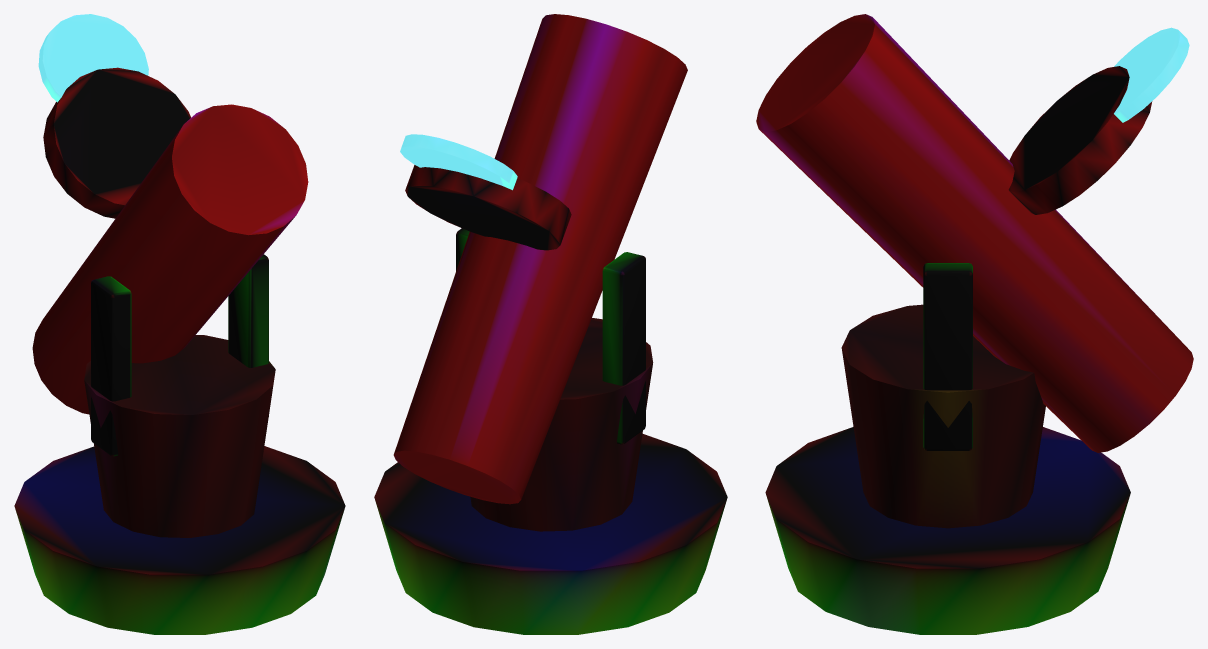
File: hero_giant_telescope.glb
3 renders of one model, left to right at view 1: azimuth 30°, elevation 25°; view 2: azimuth 150°, elevation 25°; view 3: azimuth 270°, elevation 25°, orthographic. The views are drawn at different scales.
Parts seen in each view (by area): view 1: HeroGiantTelescope; view 2: HeroGiantTelescope; view 3: HeroGiantTelescope.
Boxes of the visible parts, x1,y1,x2,y2 form: HeroGiantTelescope: (14, 14, 345, 634); HeroGiantTelescope: (374, 14, 727, 634); HeroGiantTelescope: (756, 14, 1193, 634).
Bounding box in the file's own units: 4.73 × 7.88 × 5.75.
